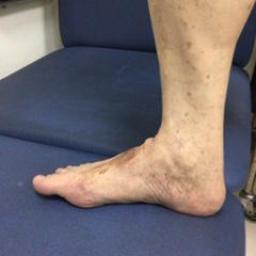Medial View -Right Foot-: (28, 93, 236, 220)
